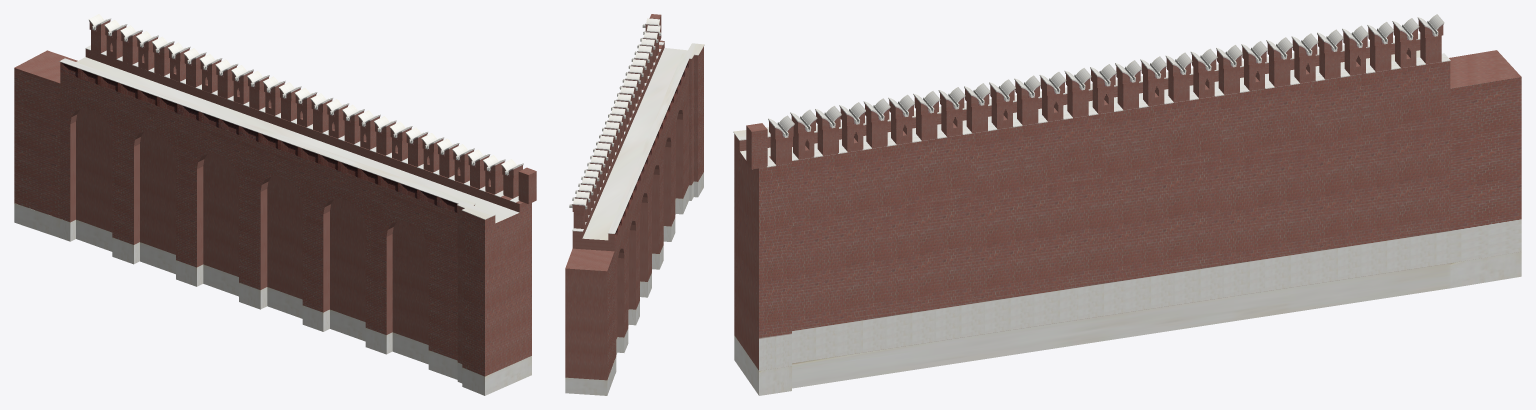
File: 01080_Kremlyovskaya_stena_19.FBX
3 renders of one model, left to right at view 1: azimuth 30°, elevation 25°; view 2: azimuth 150°, elevation 25°; view 3: azimuth 270°, elevation 25°, orthographic. The views are drawn at different scales.
Visible parts, largest first — view 1: Group_172, Group_167, Group_166, Group_170, Group_001, Group_202, Group_165, Group_002; view 2: Group_167, Group_172, Group_202, Group_170, Group_001, Group_165, Group_008; view 3: Group_168, Group_001, Group_173, Group_171, Group_166, Group_167, Group_002, Group_202, Group_165.
Boxes of the visible parts, x1=… form: Group_172: x1=60, y1=62, x2=457, y2=360; Group_167: x1=14, y1=49, x2=523, y2=334; Group_166: x1=392, y1=202, x2=531, y2=376; Group_170: x1=14, y1=68, x2=484, y2=376; Group_001: x1=14, y1=203, x2=531, y2=395; Group_202: x1=76, y1=57, x2=519, y2=223; Group_165: x1=59, y1=58, x2=495, y2=219; Group_002: x1=518, y1=167, x2=536, y2=204; Group_167: x1=565, y1=40, x2=683, y2=380; Group_172: x1=614, y1=60, x2=688, y2=359; Group_202: x1=582, y1=48, x2=687, y2=240; Group_170: x1=607, y1=46, x2=703, y2=379; Group_001: x1=565, y1=172, x2=703, y2=395; Group_165: x1=607, y1=43, x2=704, y2=233; Group_008: x1=573, y1=211, x2=585, y2=228; Group_168: x1=792, y1=61, x2=1450, y2=363; Group_001: x1=734, y1=251, x2=1521, y2=395; Group_173: x1=1450, y1=77, x2=1521, y2=263; Group_171: x1=759, y1=163, x2=791, y2=370; Group_166: x1=734, y1=134, x2=770, y2=370; Group_167: x1=769, y1=39, x2=1521, y2=158; Group_002: x1=746, y1=123, x2=767, y2=169; Group_202: x1=740, y1=50, x2=1420, y2=160; Group_165: x1=733, y1=33, x2=1420, y2=140.
Size of the model in its own units: 21.48 by 18.22 by 48.54.
11 materials, 11 textured.
